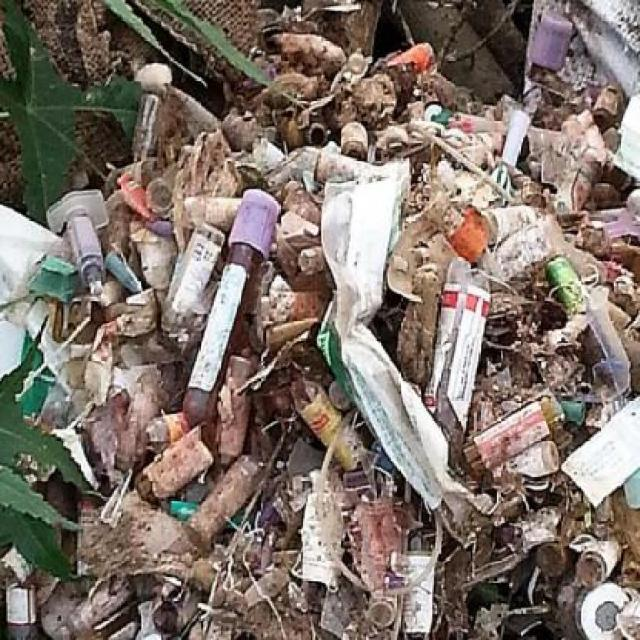garbage: (7, 55, 640, 640)
